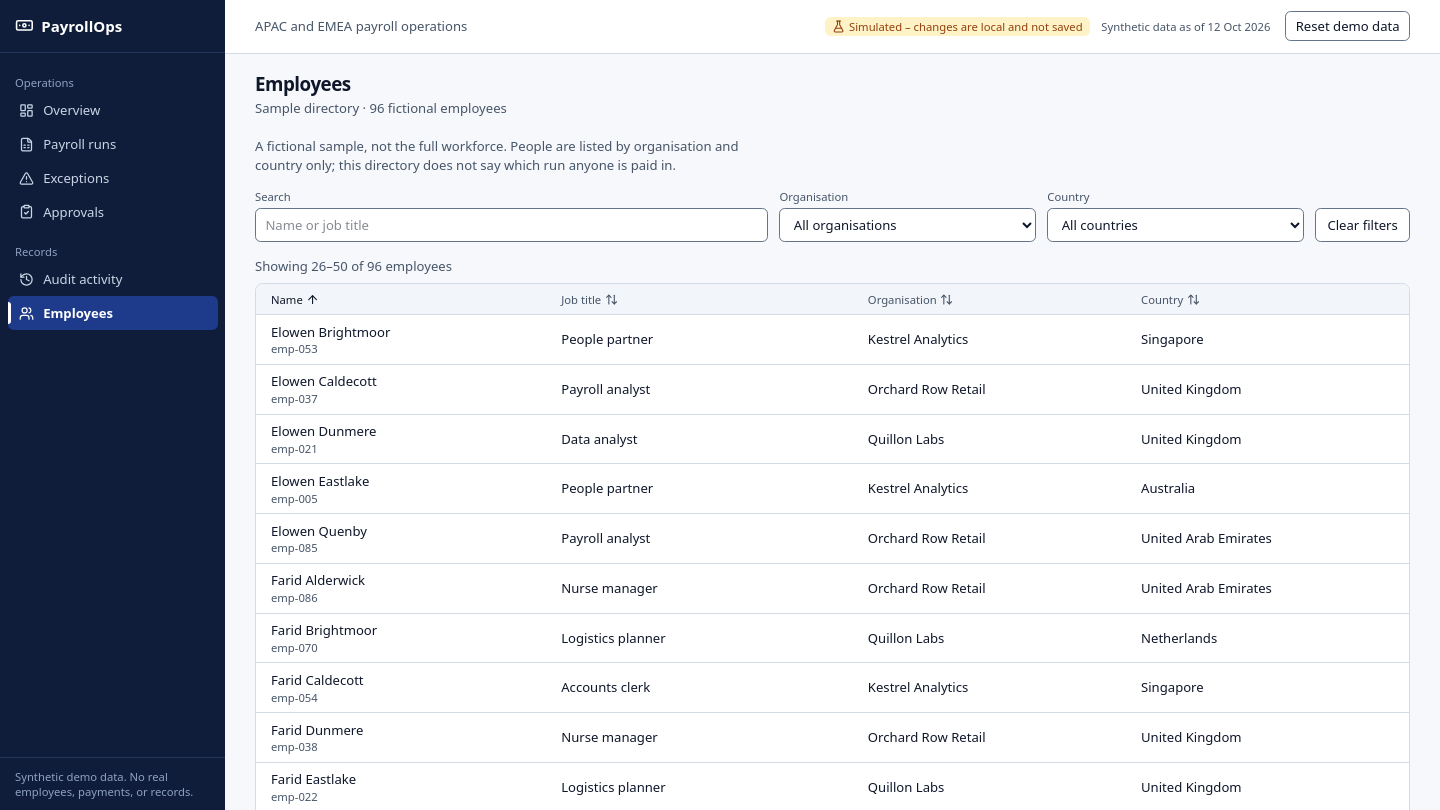
Employees page › goes back to page 1 when sorting from a later page
What coordinates should you click on to do the following:
click the button "Country"
I would click on:
 (1171, 299)
Its box is [1141,292,1200,307].
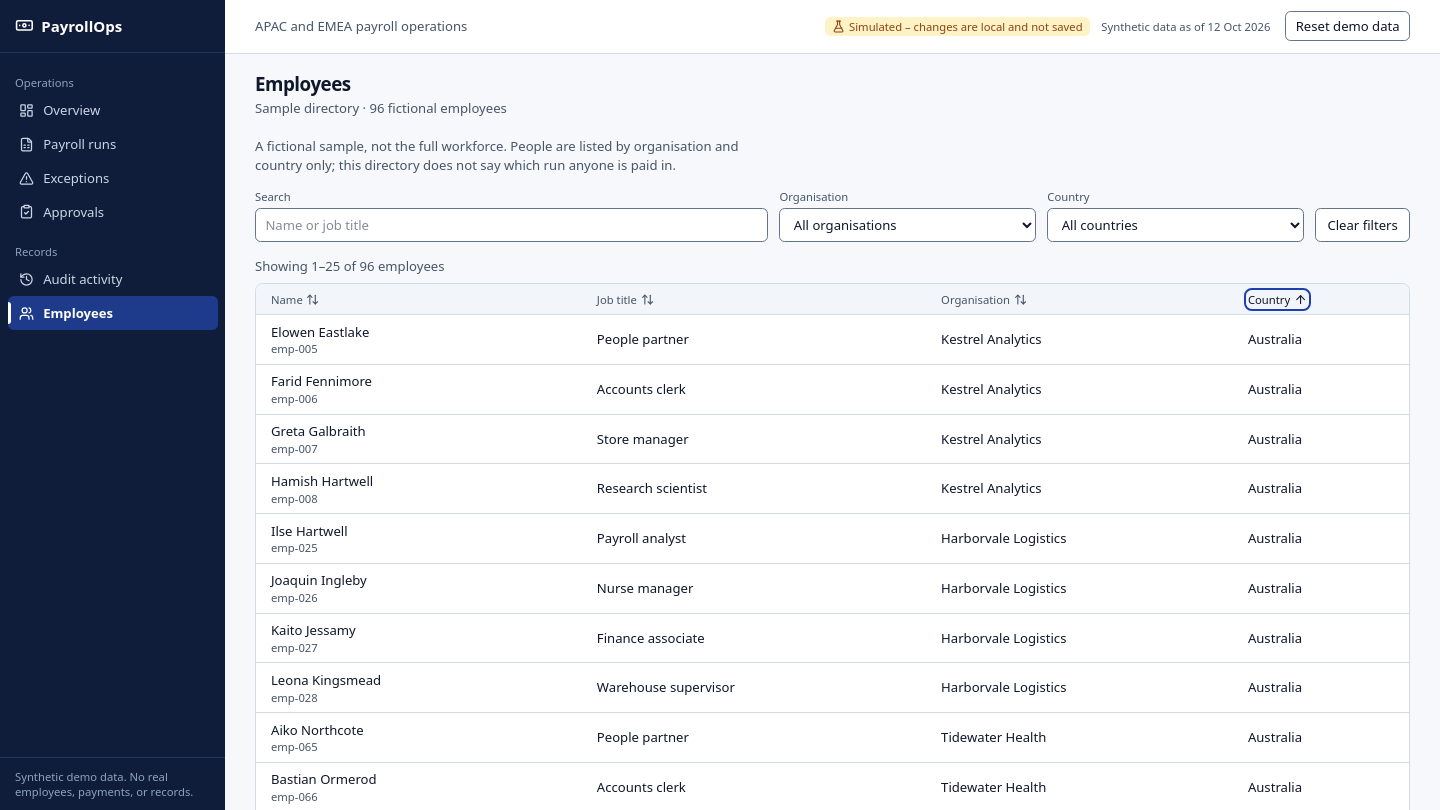
Expected: the column heading "Country" has attribute aria-sort="ascending", [1233,284,1409,314]
What coordinates should you click on to do the following:
click the button "Country"
I would click on:
 (1278, 299)
Its box is [1248,292,1307,307].
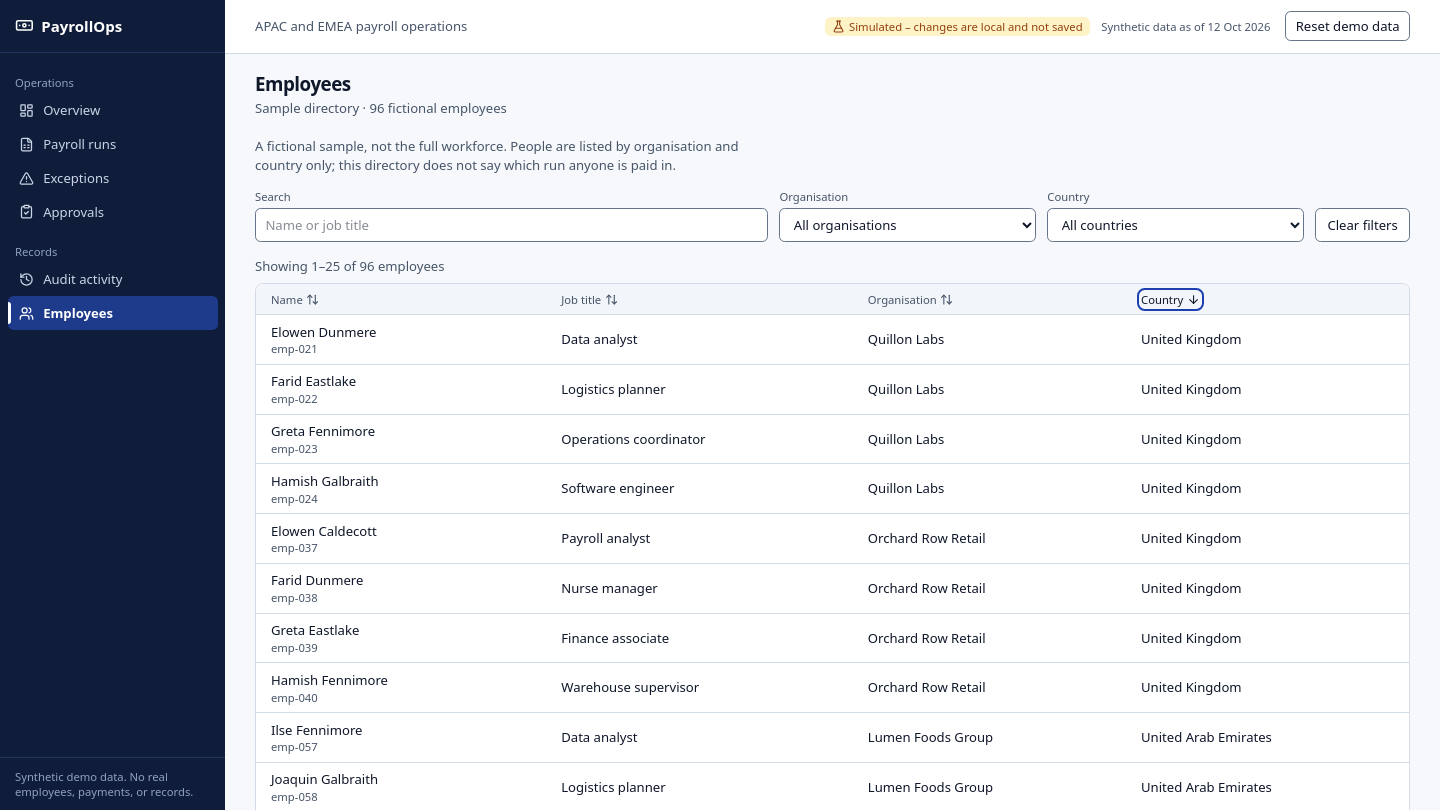
Expected: the text "United Kingdom" in the row of "Elowen Dunmere" is shown, [1141,330,1242,348]
